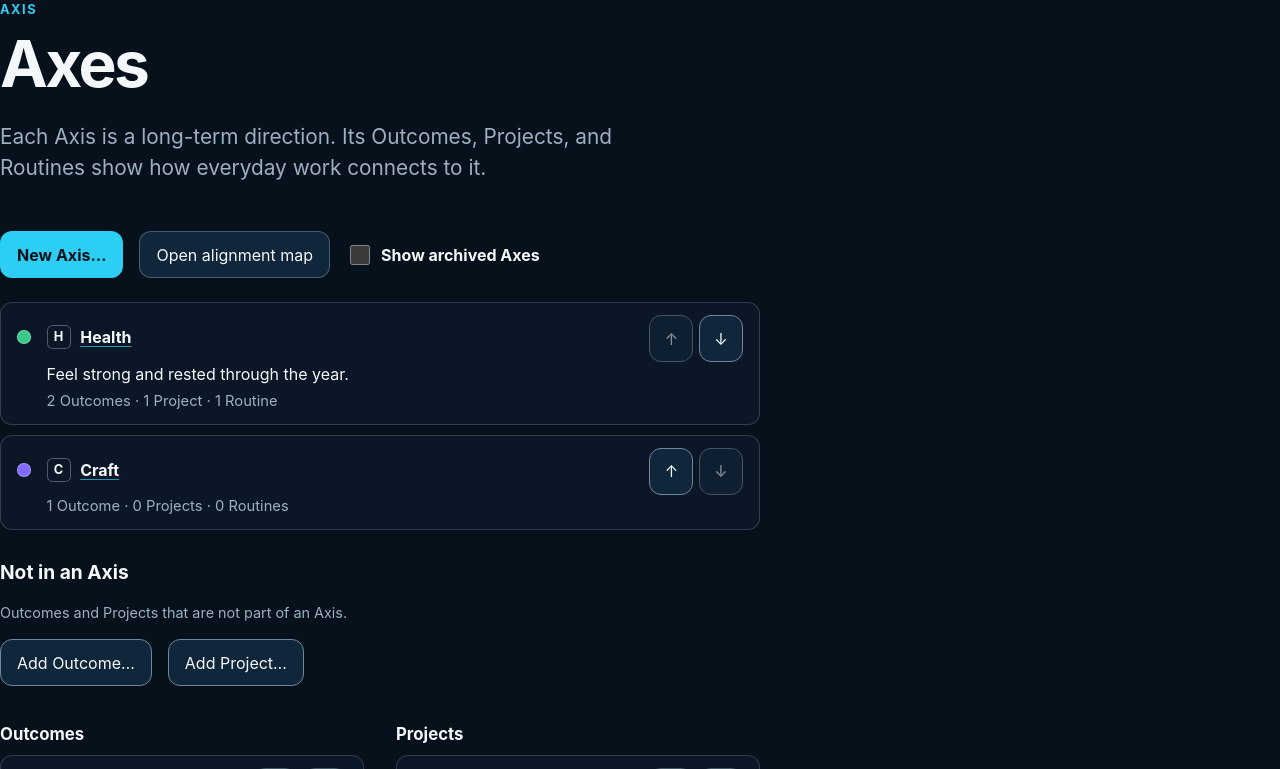
Scenario: Axis overview › creates an Axis and opens it with the confirmation and Undo
Check: the list named "Axes" is shown, box [0,302,760,530]
Click the button "New Axis…" at (62, 255), box [0,232,124,278]
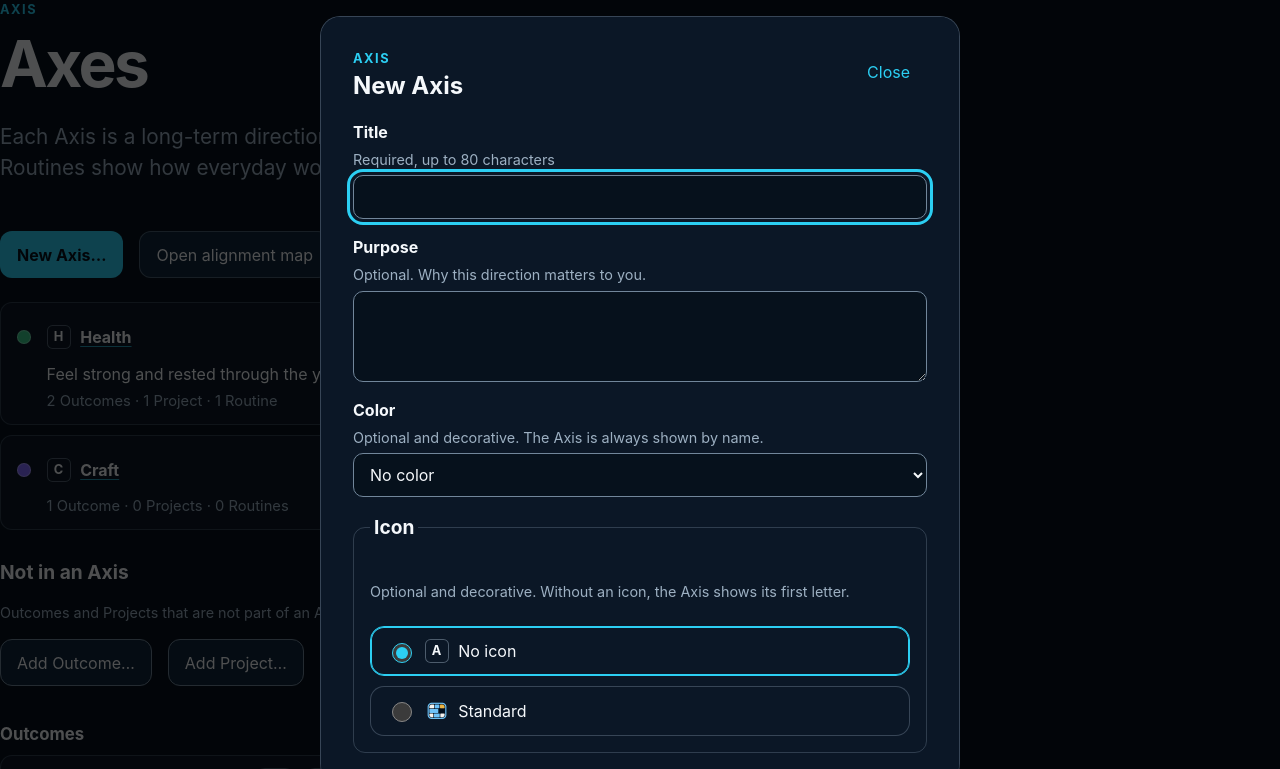
Type "Family" into the field labelled "Title" at (640, 197), box [353,175,927,219]
(page scrolled)
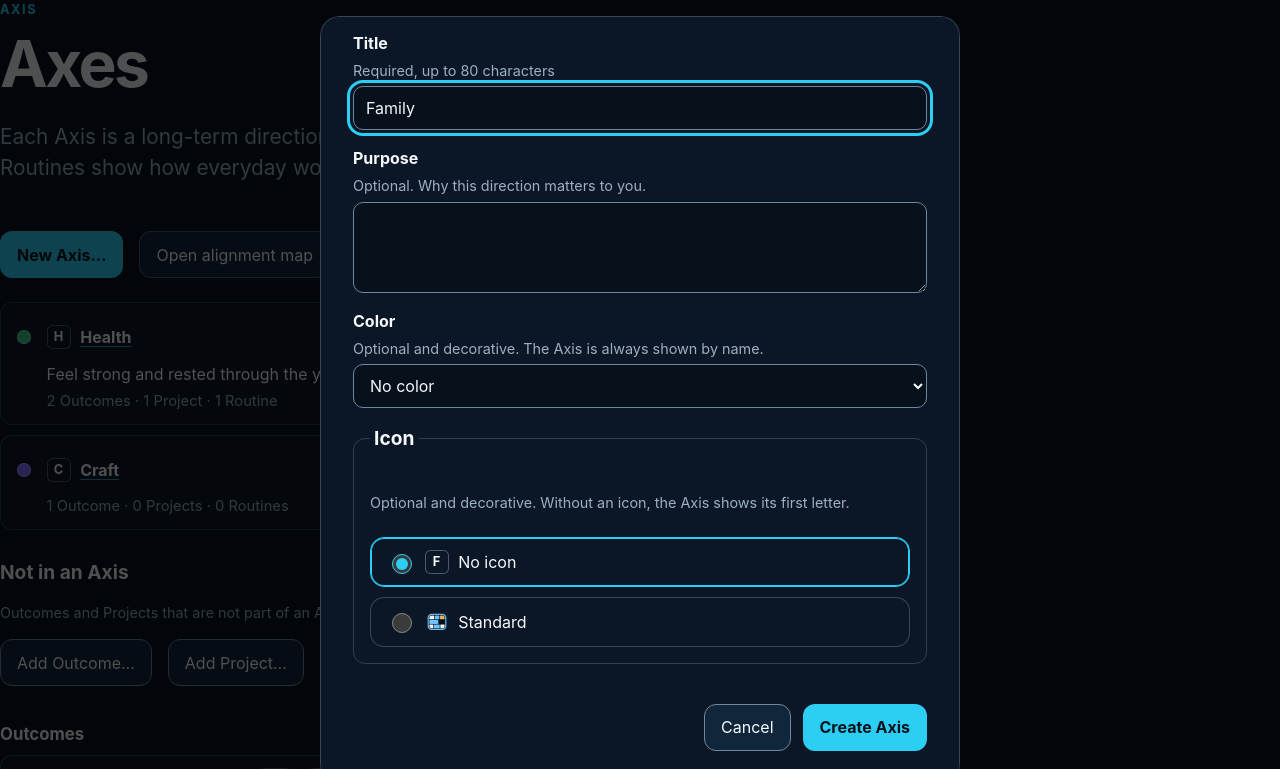
Click the button "Create Axis" at (865, 727), box [802,704,927,751]
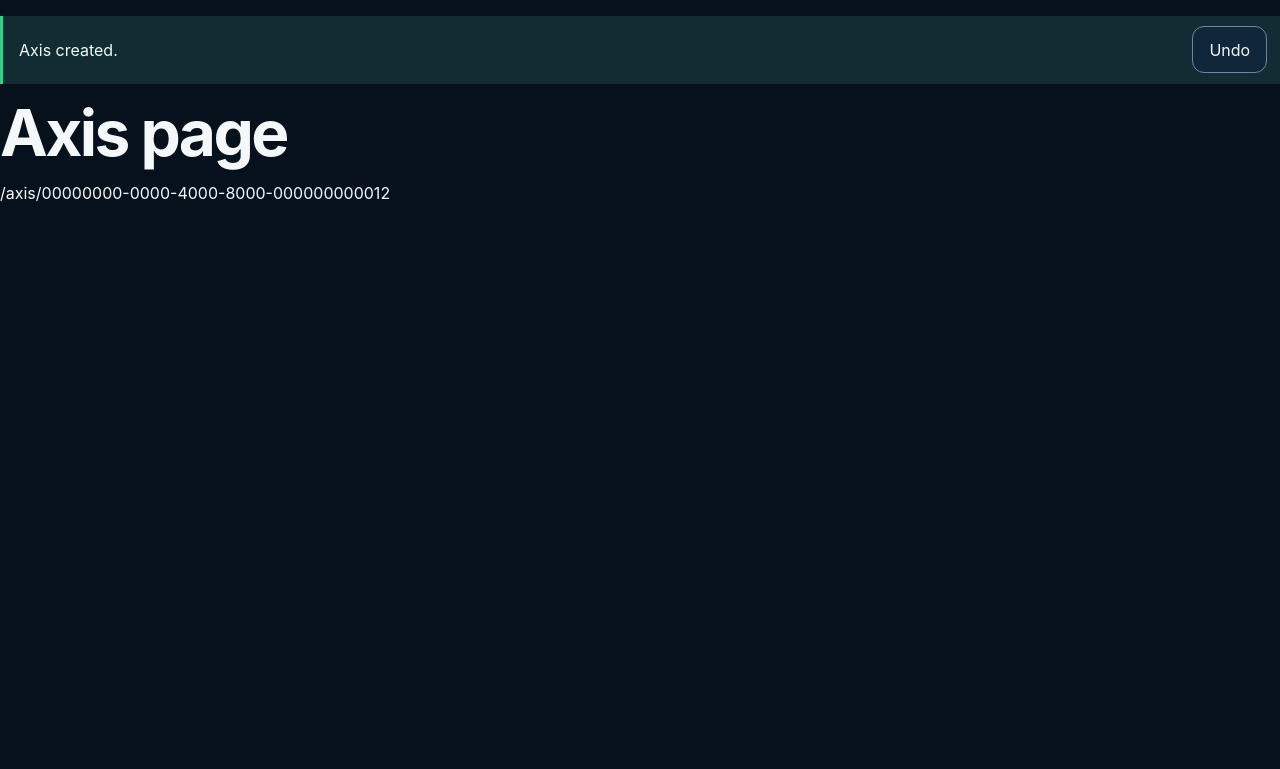
Check: the heading "Axis page" is shown, box [0,94,287,171]
Check: the text "Axis created." is shown, box [19,38,118,62]
Check: the button "Undo" is shown, box [1192,26,1267,73]
